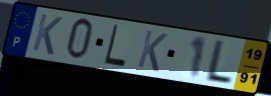0: (64, 16, 96, 64)
1: (187, 36, 207, 81)
K: (30, 12, 65, 58), (135, 28, 170, 74)
L: (201, 38, 235, 87), (102, 23, 128, 69)
